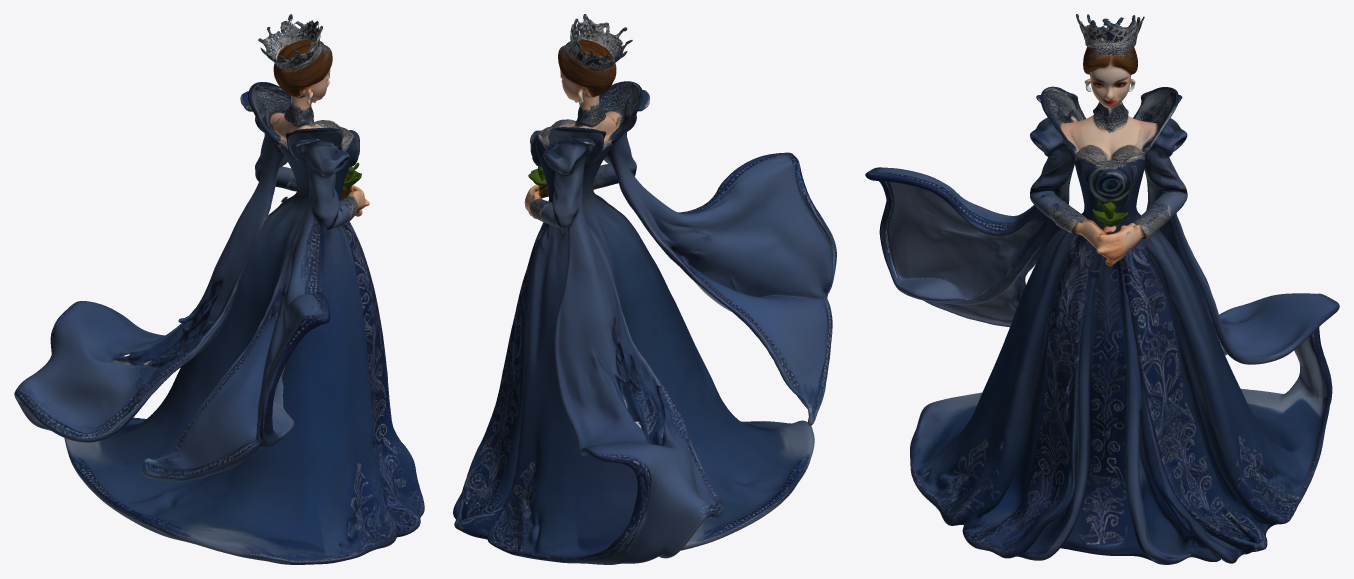
3 views of the same model, side by side, from view 1: azimuth 30°, elevation 25°; view 2: azimuth 150°, elevation 25°; view 3: azimuth 270°, elevation 25° (orthographic). The views are drawn at different scales.
Parts seen in each view (by area): view 1: tripo_node_6b8ac64d-0009-45ed-855e-085a4e29e2ab; view 2: tripo_node_6b8ac64d-0009-45ed-855e-085a4e29e2ab; view 3: tripo_node_6b8ac64d-0009-45ed-855e-085a4e29e2ab.
Part boxes in pixels (x1,y1,x2,y2): tripo_node_6b8ac64d-0009-45ed-855e-085a4e29e2ab: (14, 14, 424, 564); tripo_node_6b8ac64d-0009-45ed-855e-085a4e29e2ab: (453, 14, 836, 564); tripo_node_6b8ac64d-0009-45ed-855e-085a4e29e2ab: (865, 14, 1339, 564).
Size of the model in its own units: 0.6193 by 1 by 0.8348.
Materials: 1 (1 with a texture image).
